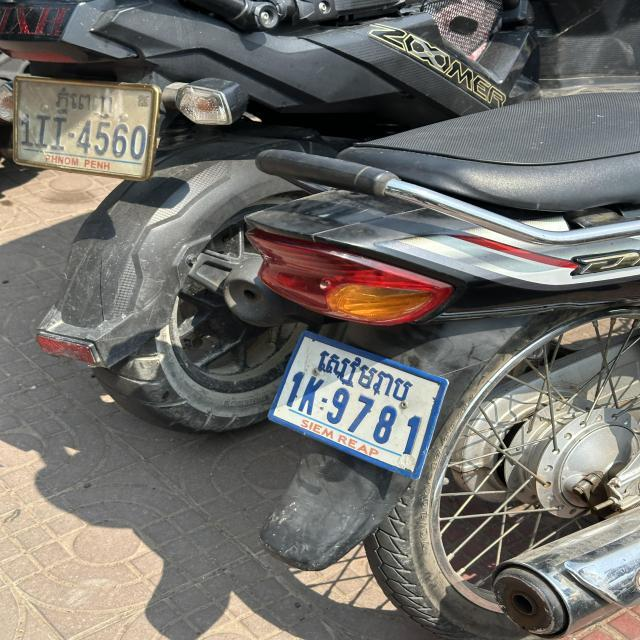Siem_Reap: (316, 349, 412, 401)
